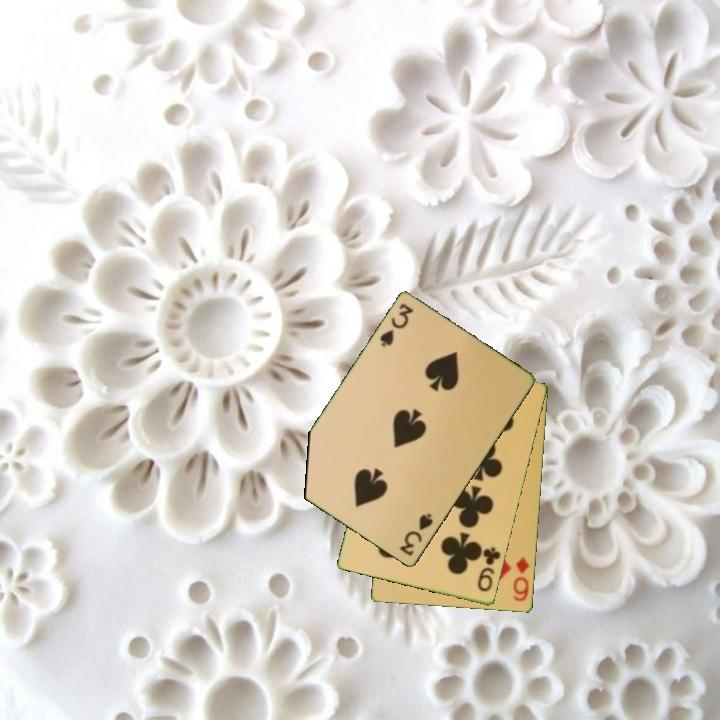3s: (376, 300, 416, 351), (396, 510, 436, 559)
6d: (510, 554, 533, 604)
9c: (474, 544, 503, 595)
